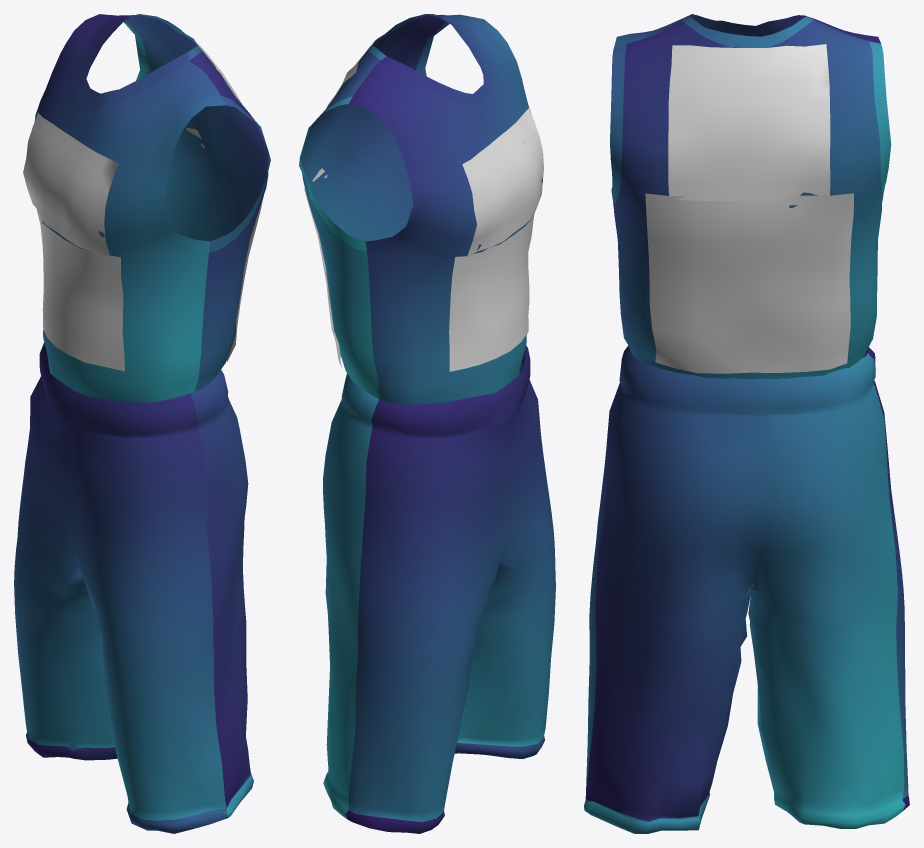
Rendered from Basic_Jersey_2_MODIFIED.gltf.
3 renders of one model, left to right at view 1: azimuth 30°, elevation 25°; view 2: azimuth 150°, elevation 25°; view 3: azimuth 270°, elevation 25°, orthographic. The views are drawn at different scales.
Visible parts, largest first — view 1: <name>_Default, logo_Number_Front, logo_Team_Name; view 2: <name>_Default, logo_Number_Front, logo_Team_Name; view 3: <name>_Default, logo_Number_Back, logo_Name.
Boxes of the visible parts, box(x1,y1,x2,y2) form: <name>_Default: box(14, 14, 270, 833); logo_Number_Front: box(36, 209, 124, 371); logo_Team_Name: box(23, 112, 118, 256); <name>_Default: box(299, 14, 555, 833); logo_Number_Front: box(449, 214, 534, 371); logo_Team_Name: box(462, 108, 543, 256); <name>_Default: box(584, 14, 909, 833); logo_Number_Back: box(645, 193, 853, 373); logo_Name: box(668, 44, 830, 200).
Bounding box in the file's own units: 1.1 × 4.49 × 1.64.
Materials: 9 (5 with a texture image).
